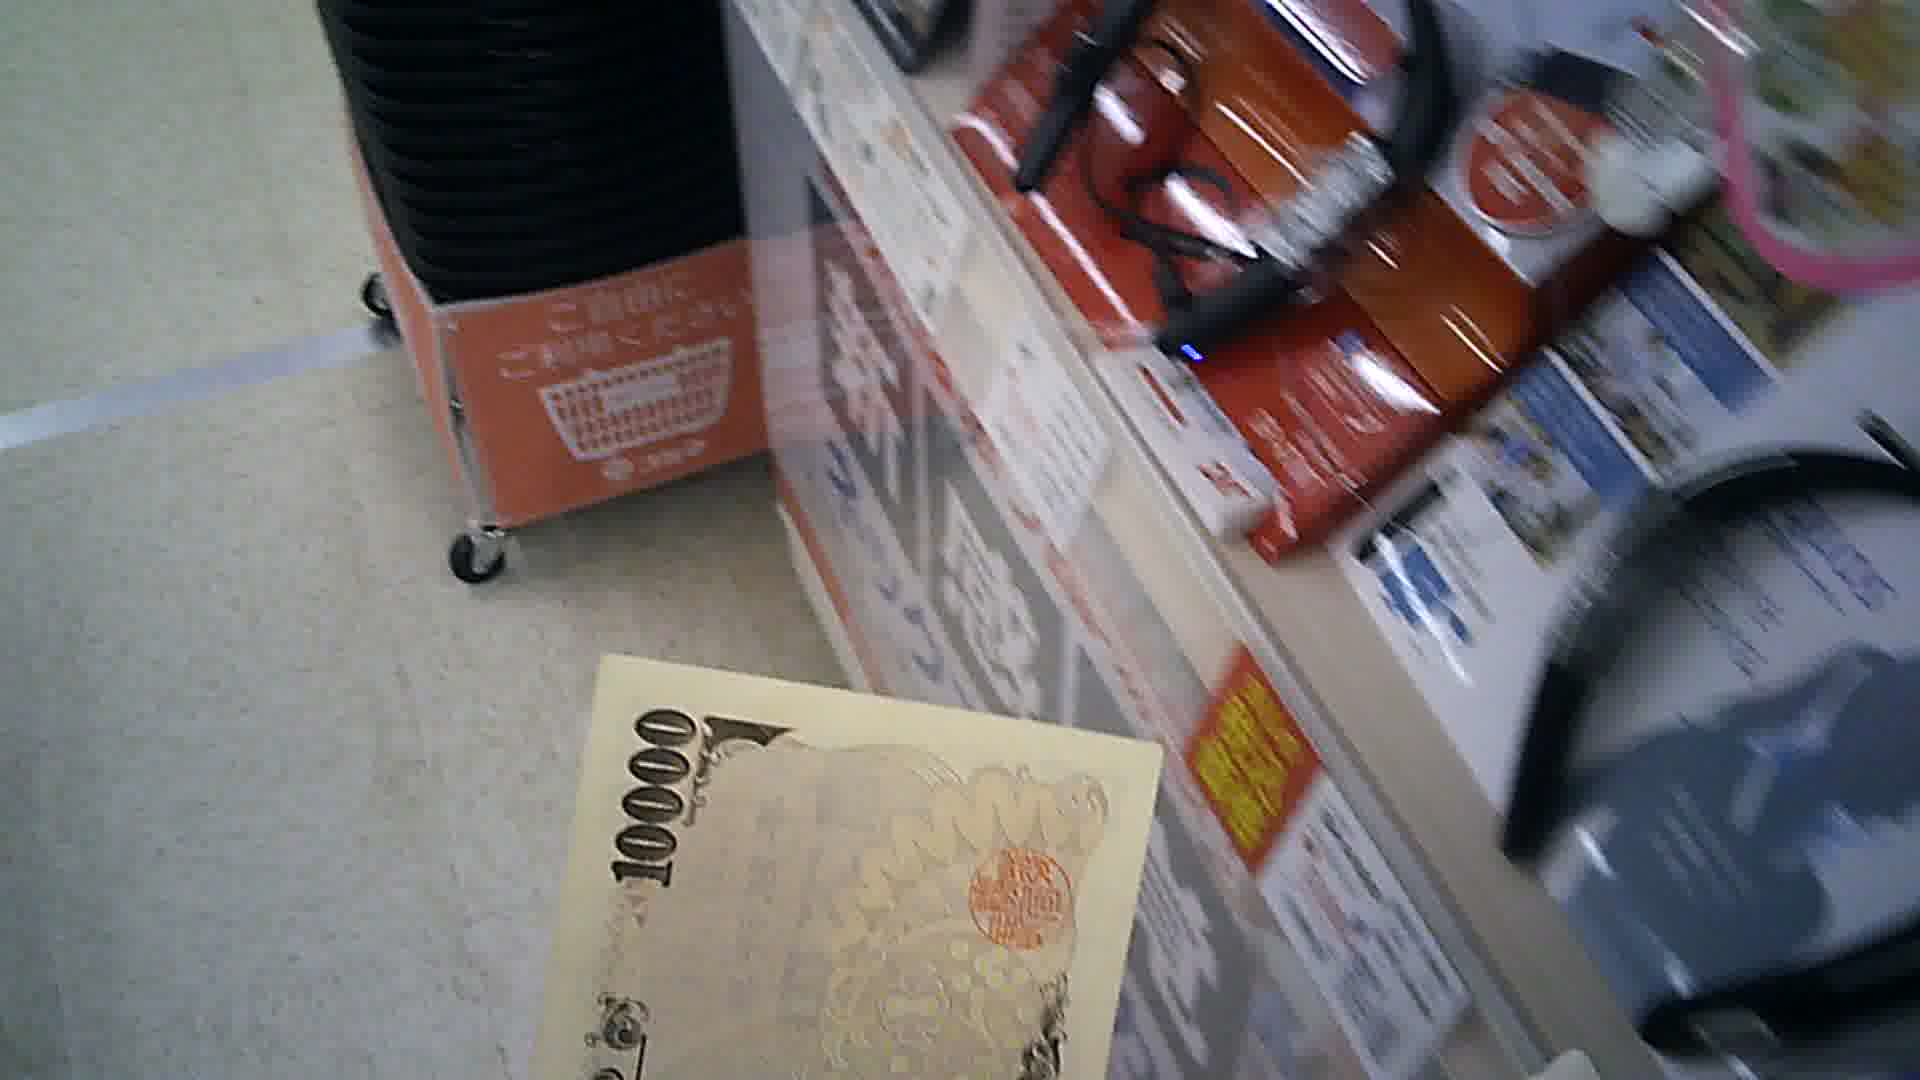10,000 Yen: (526, 651, 1153, 1073)
